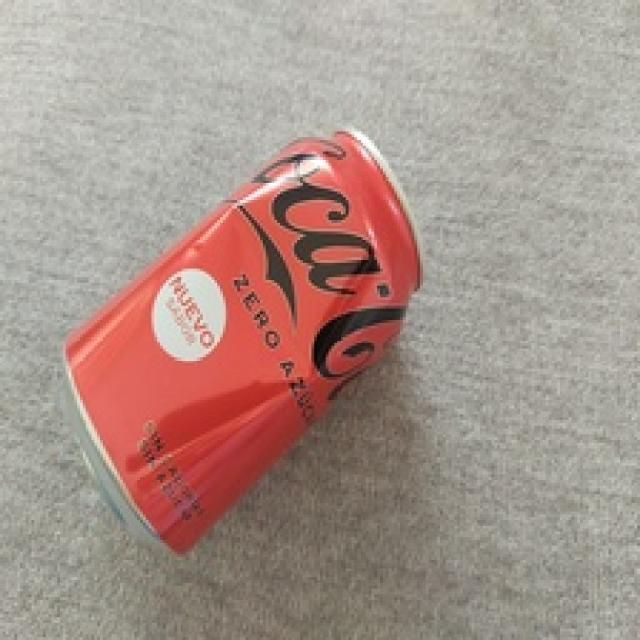recyclable: (55, 126, 423, 556)
